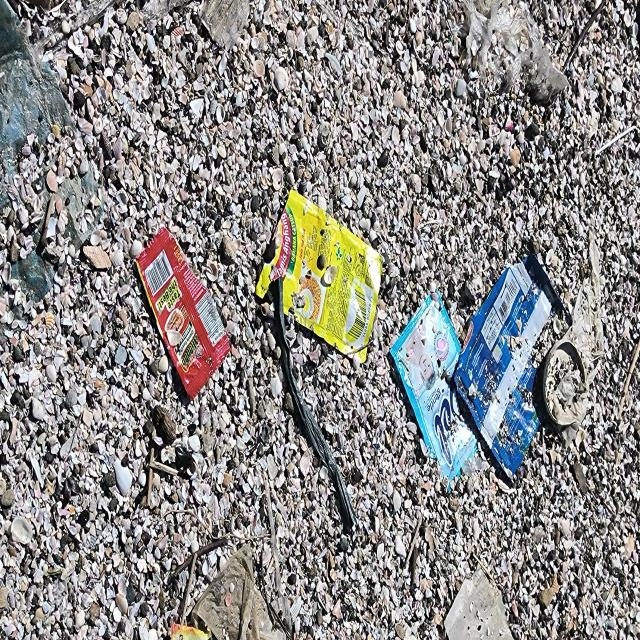litter: (386, 263, 553, 499), (252, 188, 382, 366), (132, 227, 228, 403)
